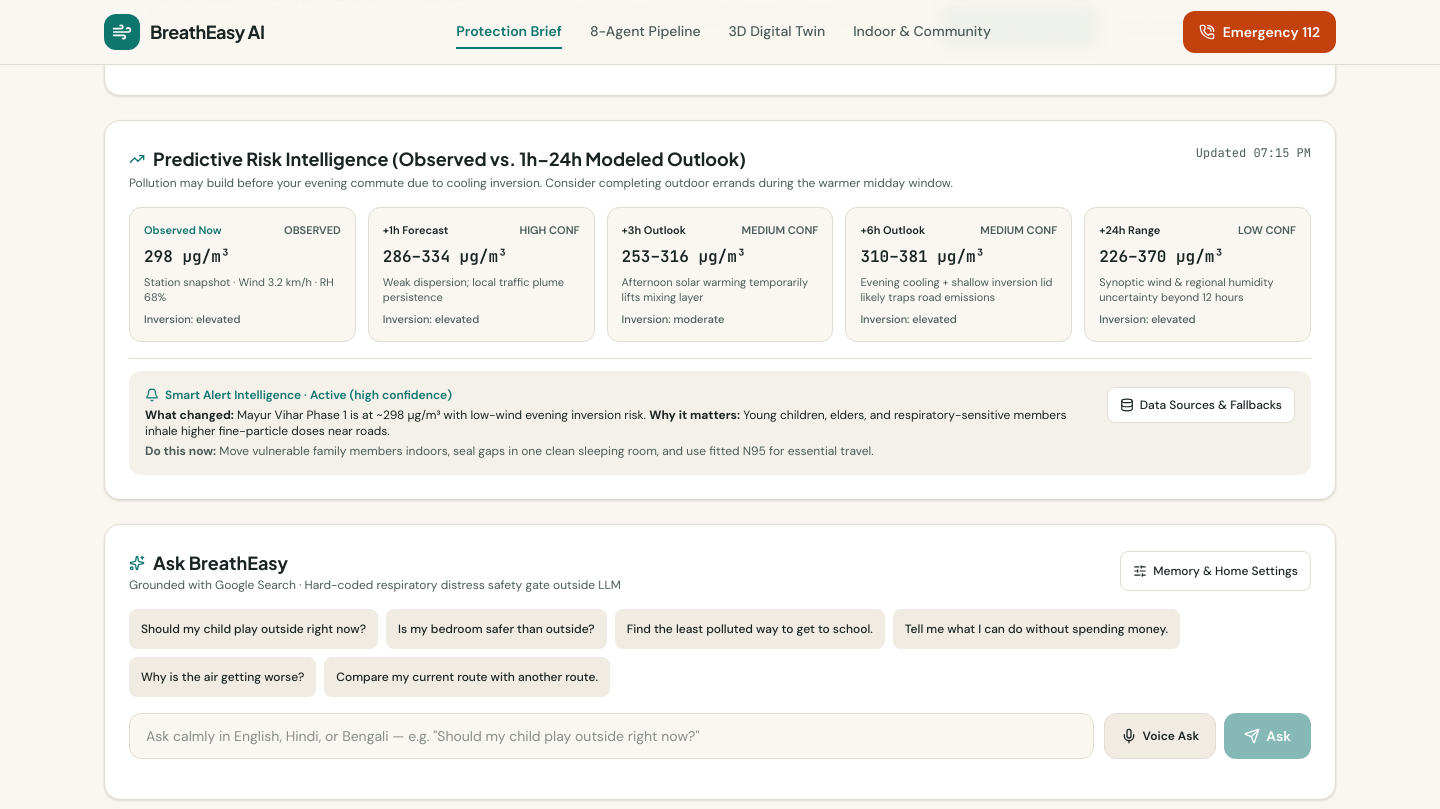
Scenario: BreathEasy AI UI & Accessibility › renders skip link, WAI-ARIA tablist, Smart Alert Intelligence, and Data Sources disclosure
The image size is (1440, 809).
(page scrolled)
Expected: the heading "Predictive Risk Intelligence (Observed vs. 1h–24h Modeled Outlook)" is shown, left=129, top=147, right=746, bottom=170
Expected: the text "Smart Alert Intelligence · Active (high confidence)" is shown, left=145, top=387, right=452, bottom=403
Click the button "Data Sources & Fallbacks": (1201, 405) left=1107, top=387, right=1295, bottom=423
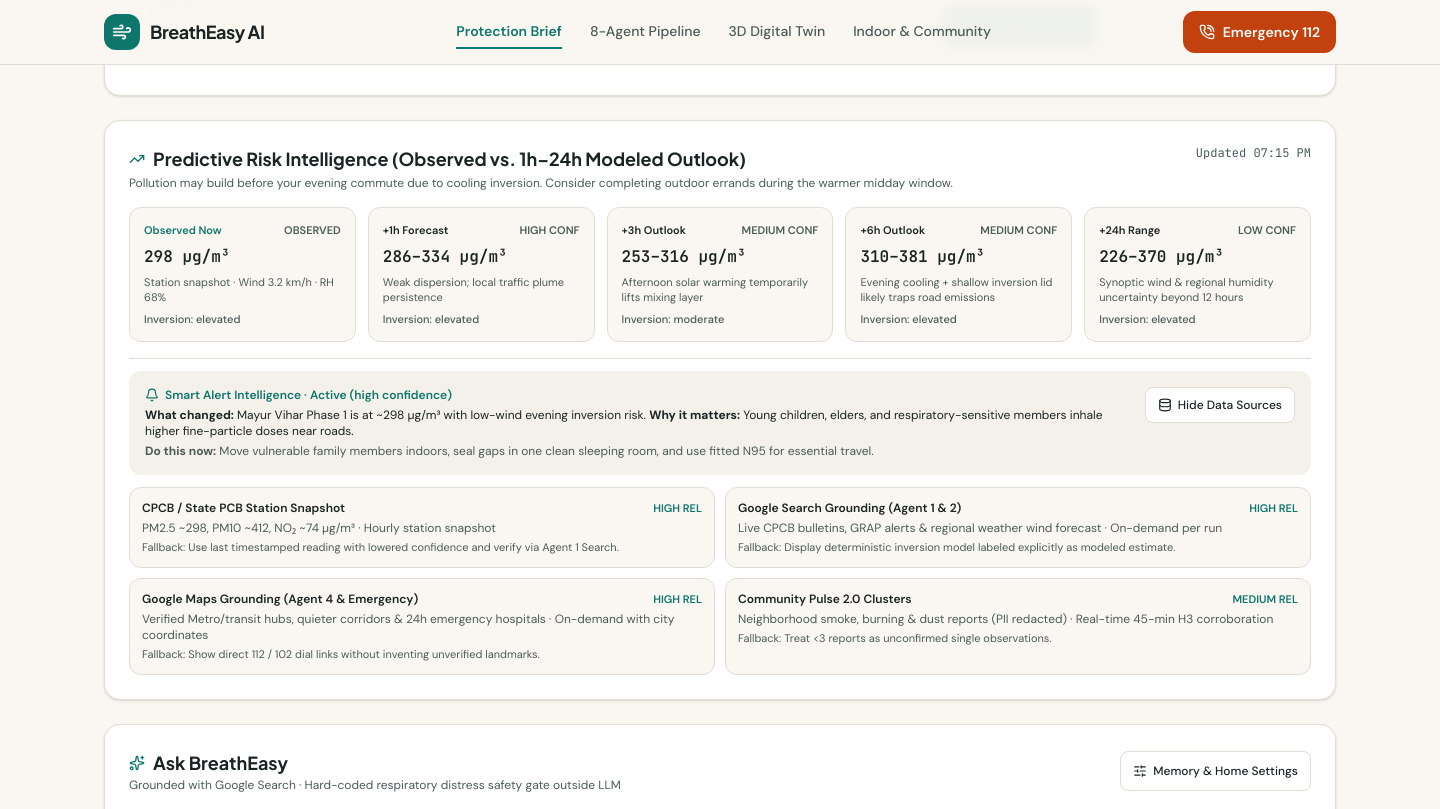
Expected: the text "CPCB / State PCB Station Snapshot" is shown, left=142, top=500, right=345, bottom=516
